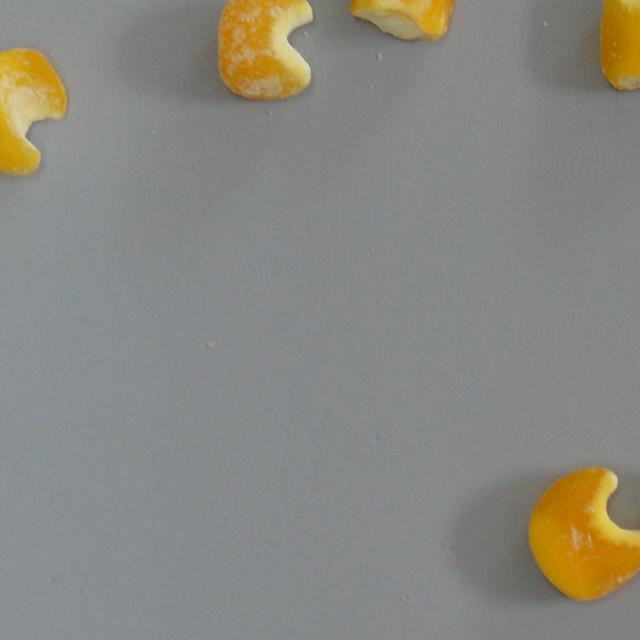dañado: (518, 463, 640, 606), (0, 44, 72, 186), (346, 0, 464, 50), (598, 0, 640, 94)
pelicula: (211, 0, 322, 102)
